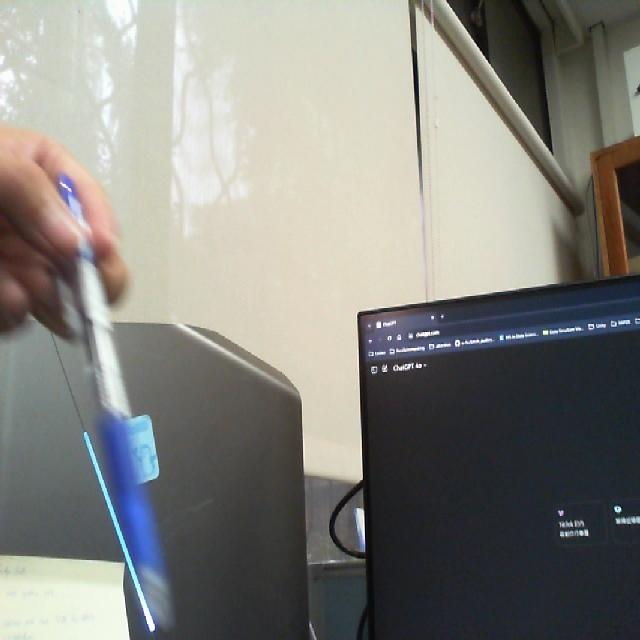Pen: (23, 169, 180, 630)
